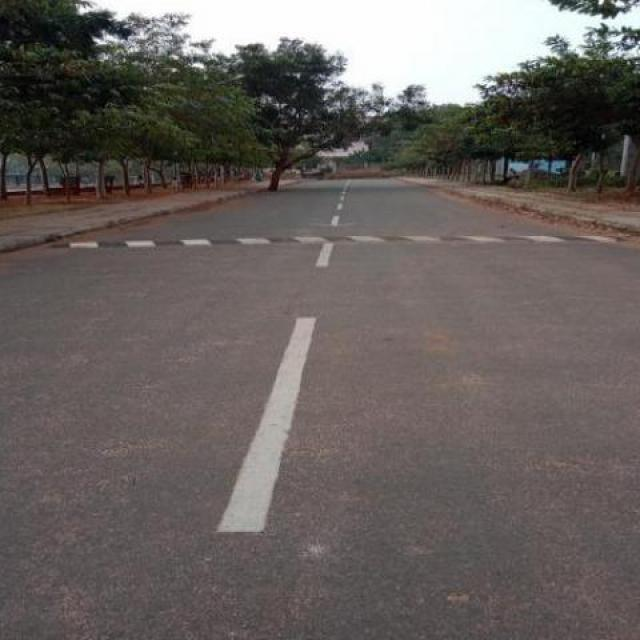Speed Bump: (49, 231, 614, 252)
